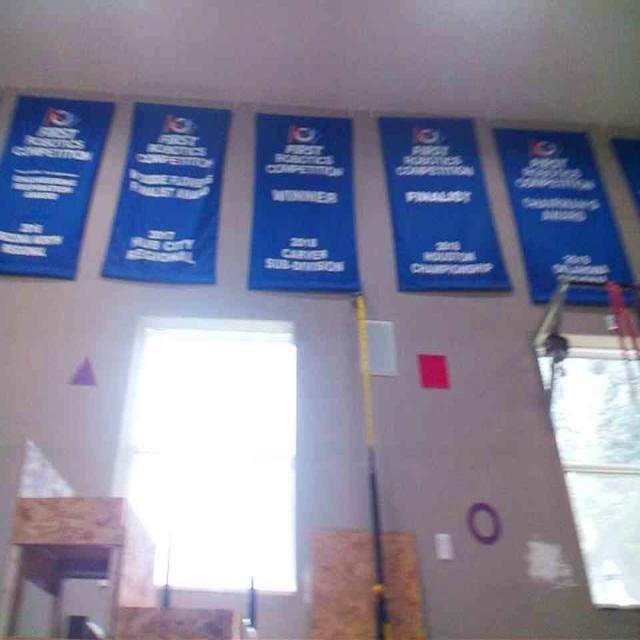ring_purple: (464, 500, 502, 546)
square_red: (415, 352, 450, 387)
triangle_purple: (67, 358, 98, 387)
